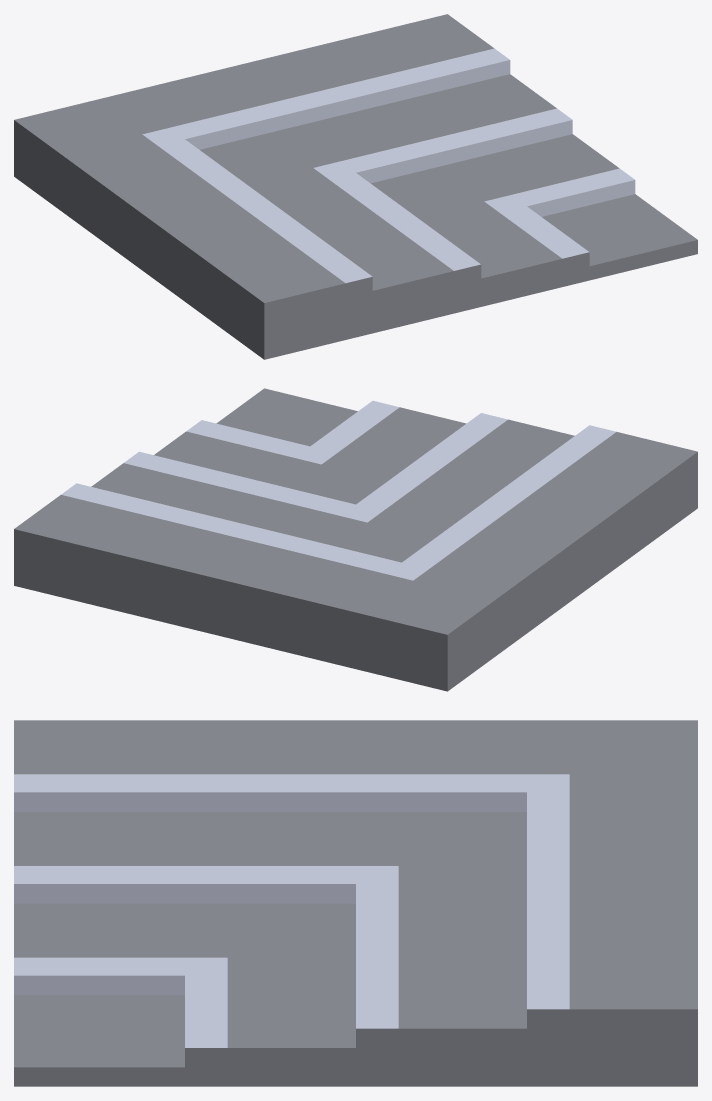
The model's file is spaceInterior_066.obj.
3 renders of one model, top to bottom at view 1: azimuth 30°, elevation 25°; view 2: azimuth 150°, elevation 25°; view 3: azimuth 270°, elevation 25°, orthographic. The views are drawn at different scales.
Parts seen in each view (by area): view 1: Mesh1 Group1 Model; view 2: Mesh1 Group1 Model; view 3: Mesh1 Group1 Model.
Boxes of the visible parts, x1,y1,x2,y2 form: Mesh1 Group1 Model: (14,14,697,359); Mesh1 Group1 Model: (14,388,697,691); Mesh1 Group1 Model: (14,720,697,1086).
Bounding box in the file's own units: 1 × 0.125 × 1.
